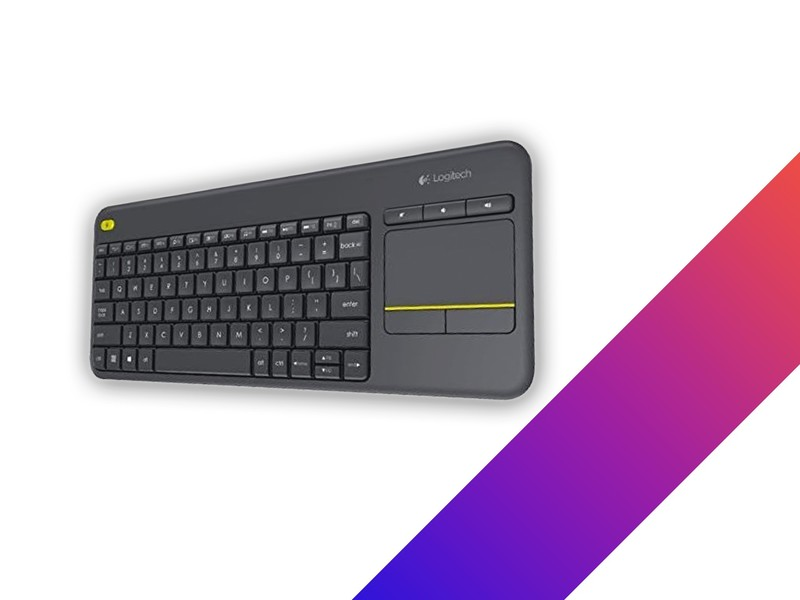logitech-keyboard-k400: (87, 141, 542, 401)
